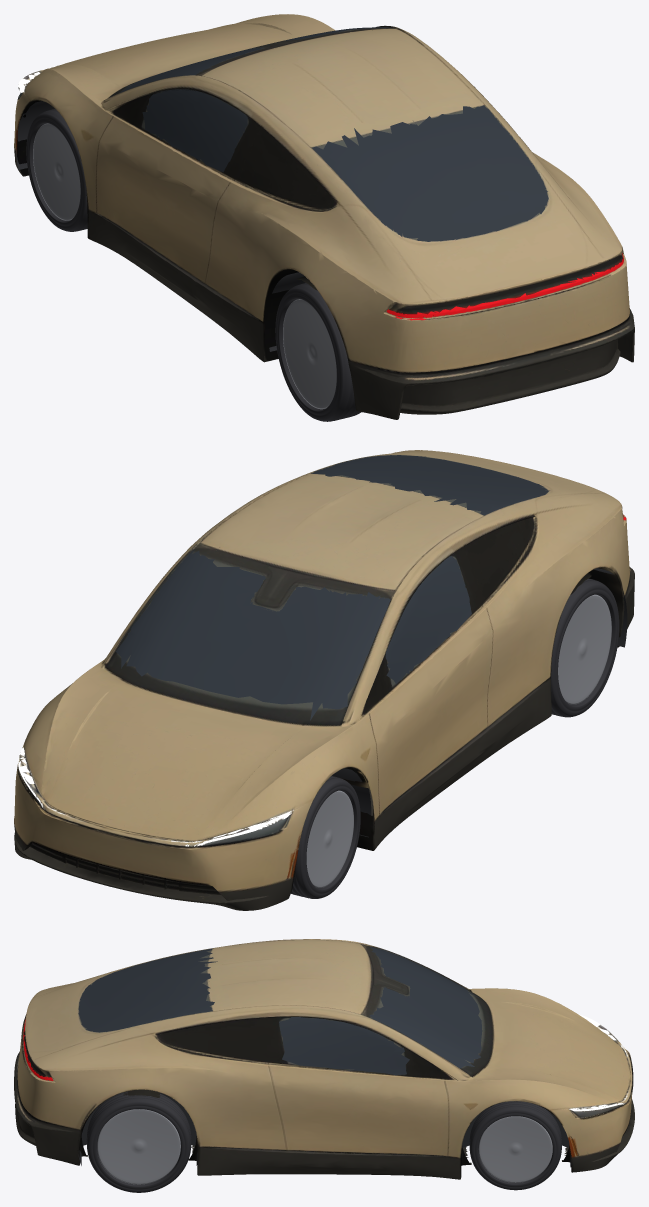
The model's file is teleopCybercab.08358a58.glb.
3 renders of one model, top to bottom at view 1: azimuth 30°, elevation 25°; view 2: azimuth 150°, elevation 25°; view 3: azimuth 270°, elevation 25°, orthographic. The views are drawn at different scales.
Visible parts, largest first — view 1: Body, Glass, CoverR, TyreR, CoverF, TyreF, Tail, Liner; view 2: Body, Glass, CoverR, CoverF, TyreR, TyreF, Liner, Head; view 3: Body, Glass, CoverR, CoverF, TyreR, TyreF, Liner.
Part boxes in pixels (<box>): Body: <box>14,14,634,419</box>; Glass: <box>119,27,548,241</box>; CoverR: <box>283,299,336,409</box>; TyreR: <box>275,283,361,421</box>; CoverF: <box>33,123,80,220</box>; TyreF: <box>26,109,87,231</box>; Tail: <box>386,253,623,320</box>; Liner: <box>15,101,305,351</box>; Body: <box>14,450,634,910</box>; Glass: <box>115,455,549,720</box>; CoverR: <box>558,594,611,704</box>; CoverF: <box>306,790,353,887</box>; TyreR: <box>551,578,619,717</box>; TyreF: <box>291,776,360,898</box>; Liner: <box>332,568,627,837</box>; Head: <box>18,747,293,846</box>; Body: <box>14,939,634,1179</box>; Glass: <box>78,946,482,1075</box>; CoverR: <box>97,1109,180,1184</box>; CoverF: <box>478,1116,552,1182</box>; TyreR: <box>86,1091,191,1192</box>; TyreF: <box>469,1101,561,1190</box>; Liner: <box>78,1092,572,1167</box>.
Size of the model in its own units: 1.75 by 1.39 by 4.42.
Materials: 7 (1 with a texture image).
